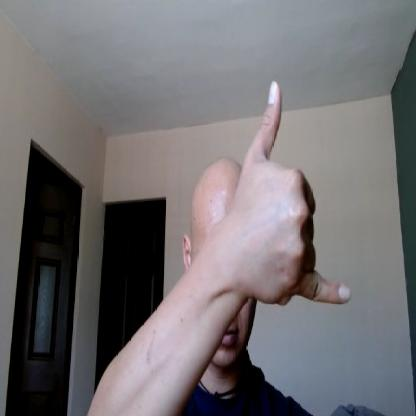Y: (233, 79, 353, 310)
